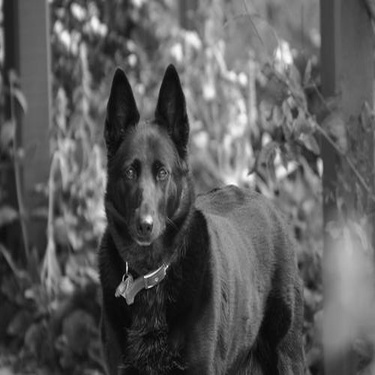dog: (88, 54, 318, 371)
